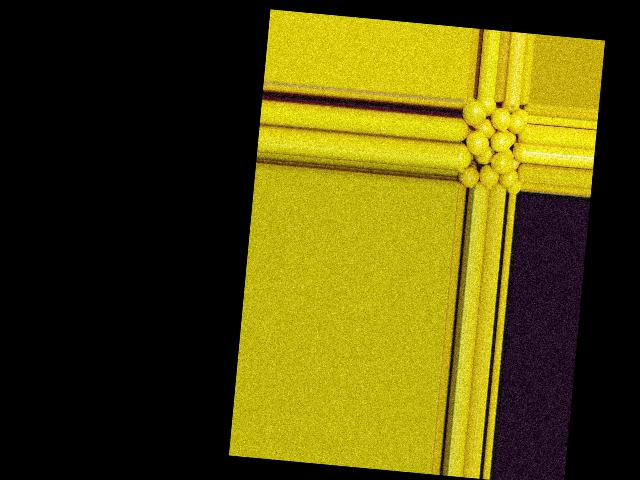lemon: (455, 144, 471, 176)
